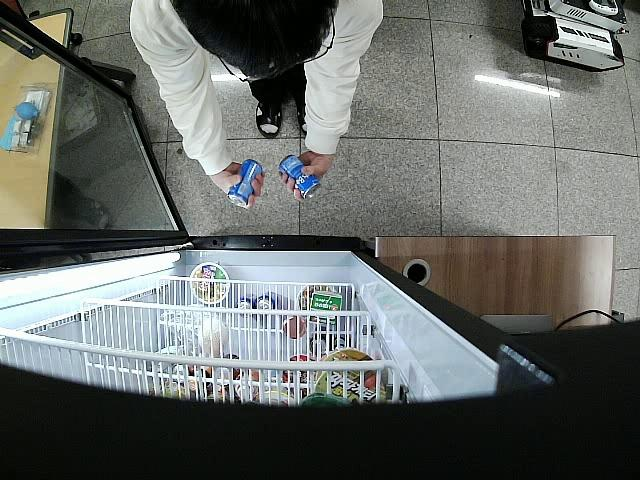00_hand: (276, 150, 334, 201), (208, 161, 267, 210)
15_letsbe: (279, 153, 321, 201), (227, 159, 265, 209)
